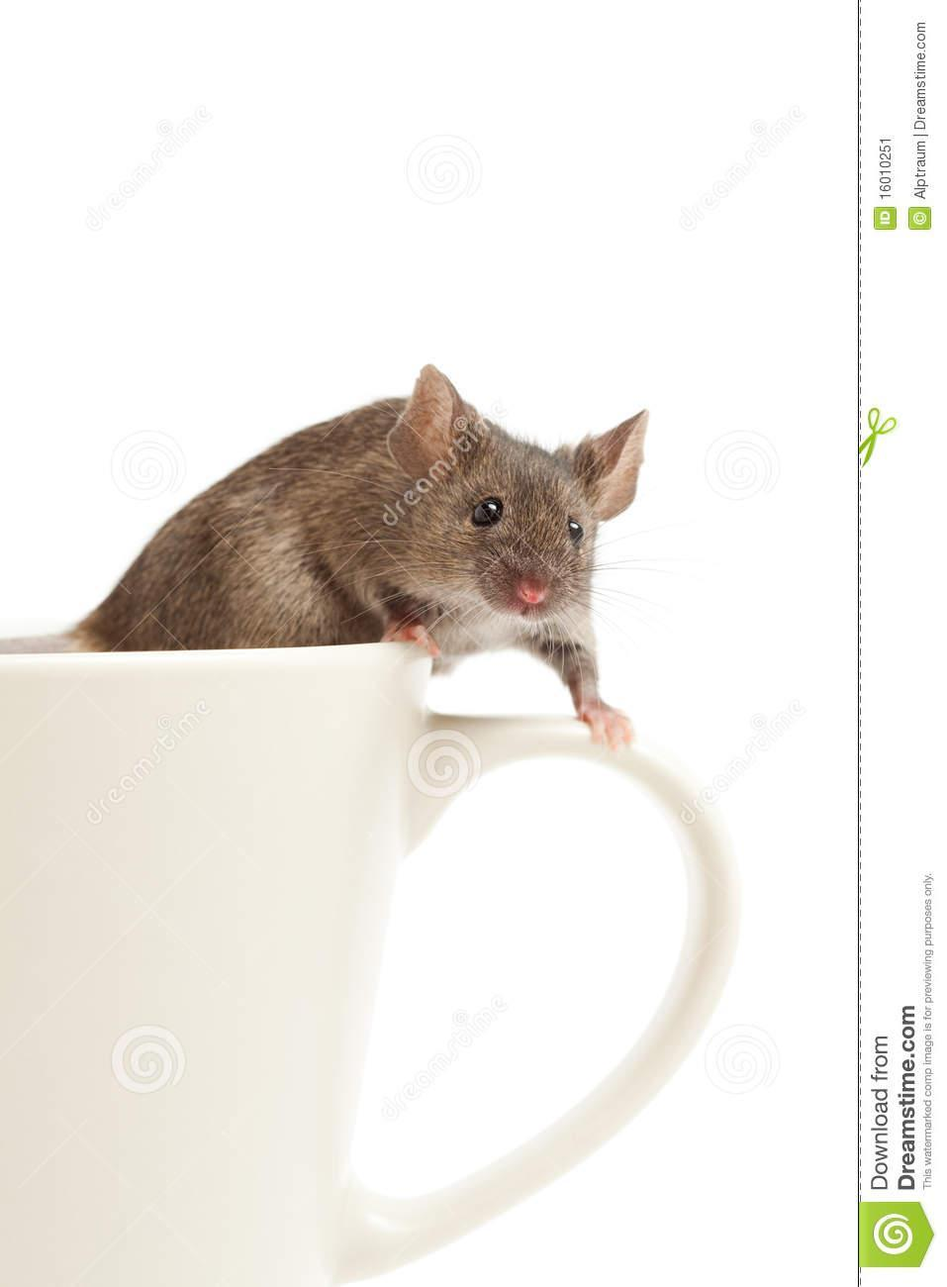rat: (77, 361, 649, 761)
